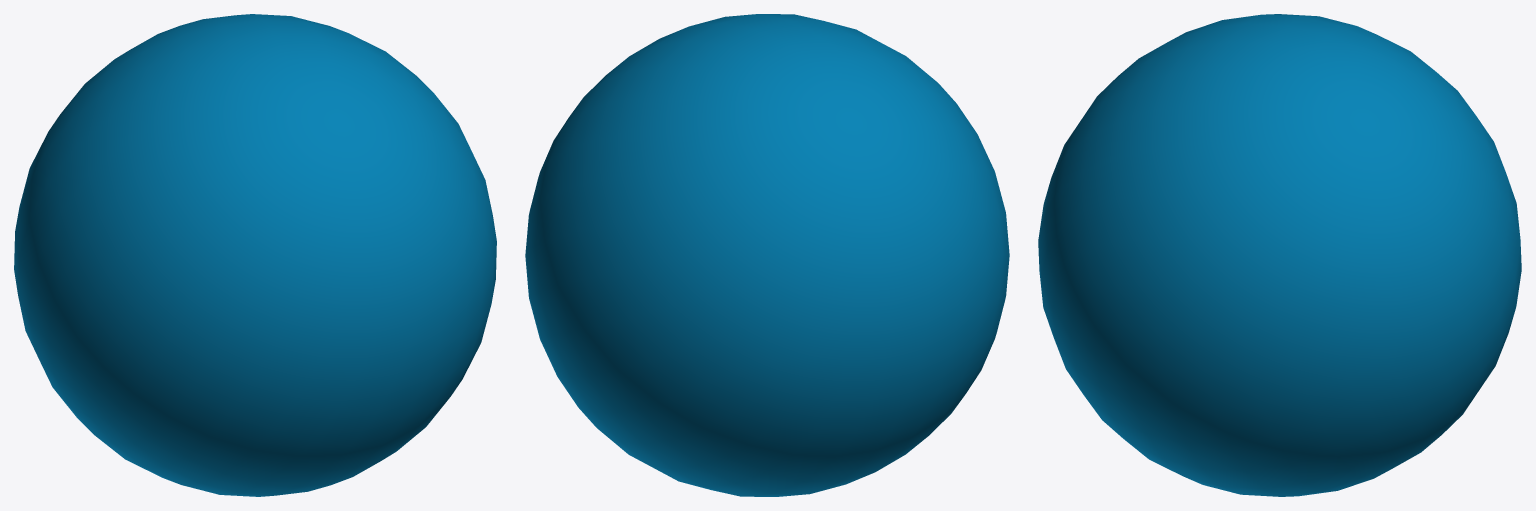
File: ball_ice.obj
3 views of the same model, side by side, from view 1: azimuth 30°, elevation 25°; view 2: azimuth 150°, elevation 25°; view 3: azimuth 270°, elevation 25° (orthographic).
Parts seen in each view (by area): view 1: Moon_Cube.004; view 2: Moon_Cube.004; view 3: Moon_Cube.004.
Boxes of the visible parts, x1,y1,x2,y2 form: Moon_Cube.004: (14,14,496,496); Moon_Cube.004: (525,14,1009,496); Moon_Cube.004: (1038,14,1521,496).
Bounding box in the file's own units: 1.38 × 1.38 × 1.38.
